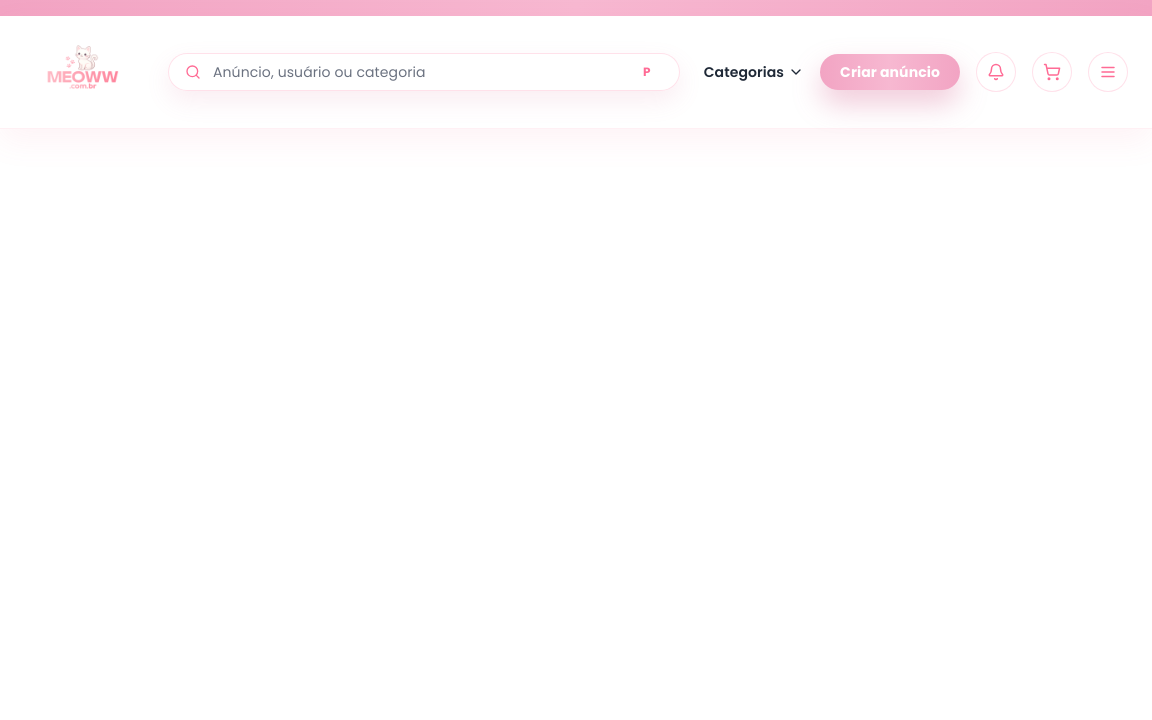
Test: SiteHeader › opens user menu
Click the button named "menu do usu". click: (1108, 72)
box: [1088,52,1128,92]
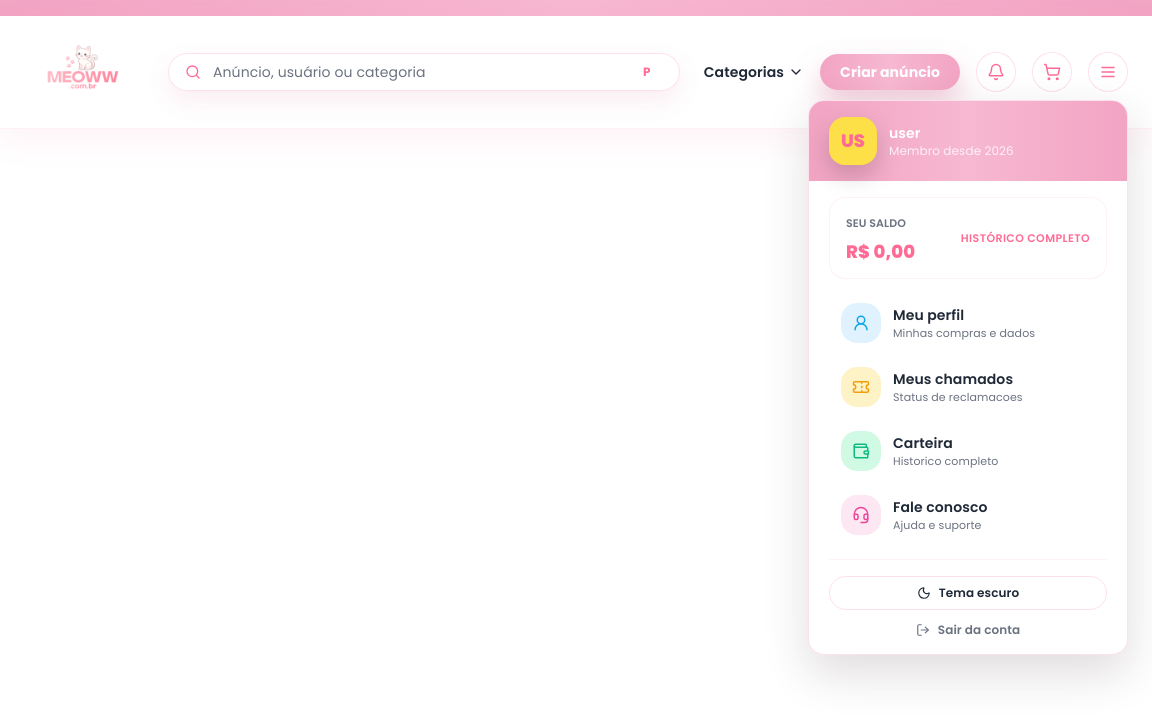
Now the text "user" is shown, box [889,123,921,143]
Now the text "Meu perfil" is shown, box [893,305,964,325]
